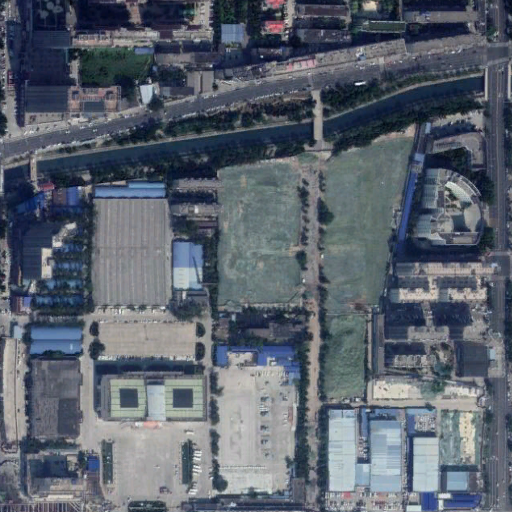cw: (218, 135, 415, 402)
